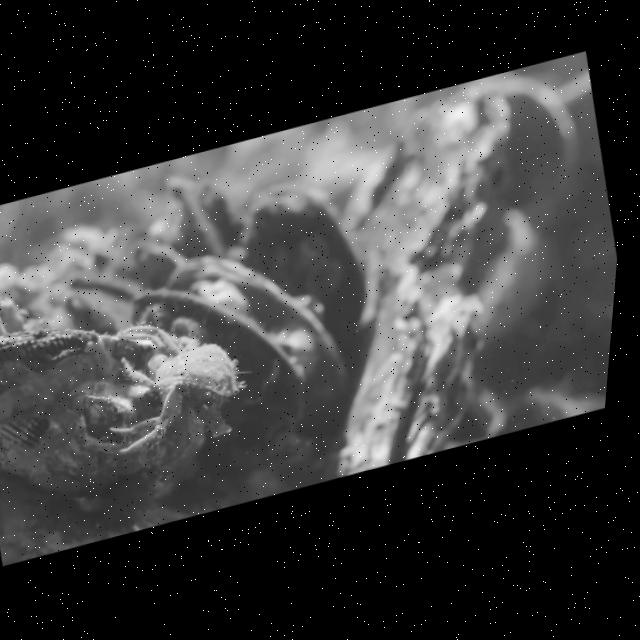Oyster-Indeterminate: (337, 266, 482, 477), (241, 188, 362, 362)
Oyster-Open: (128, 257, 349, 420)
